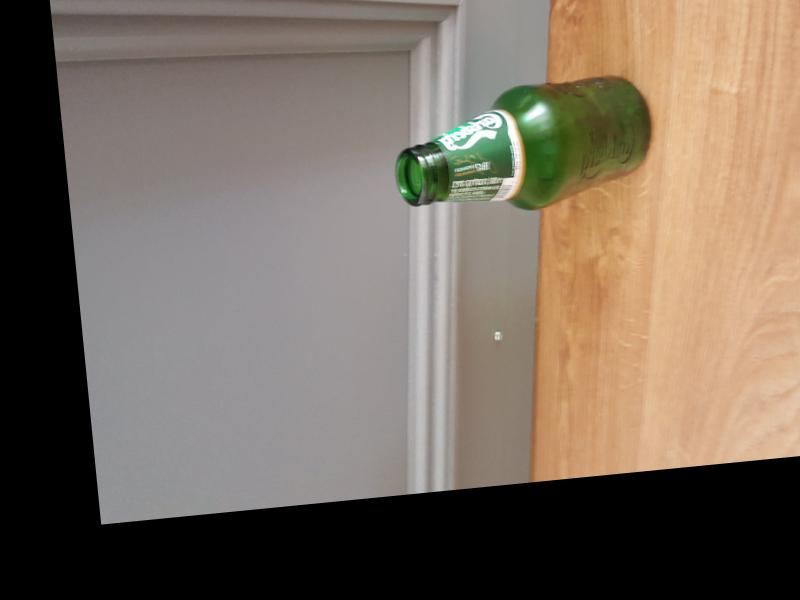Beer: (388, 71, 659, 223)
